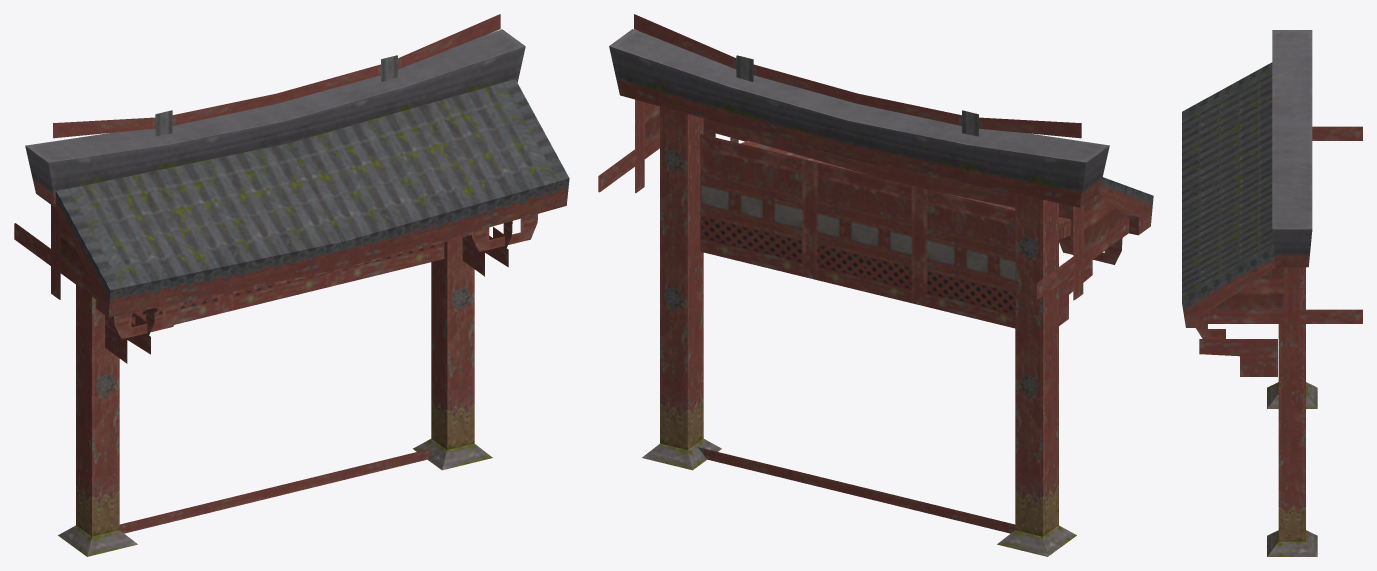
File: b_zx_yuanmen01_lod2.FBX
3 views of the same model, side by side, from view 1: azimuth 30°, elevation 25°; view 2: azimuth 150°, elevation 25°; view 3: azimuth 270°, elevation 25° (orthographic). The views are drawn at different scales.
Visible parts, largest first — view 1: b_zx_yuanmen01_lod2; view 2: b_zx_yuanmen01_lod2; view 3: b_zx_yuanmen01_lod2.
Part boxes in pixels (x1,y1,x2,y2): b_zx_yuanmen01_lod2: (14, 14, 569, 556); b_zx_yuanmen01_lod2: (598, 14, 1153, 556); b_zx_yuanmen01_lod2: (1182, 30, 1362, 556).
Bounding box in the file's own units: 8.79 × 7.52 × 3.37.
